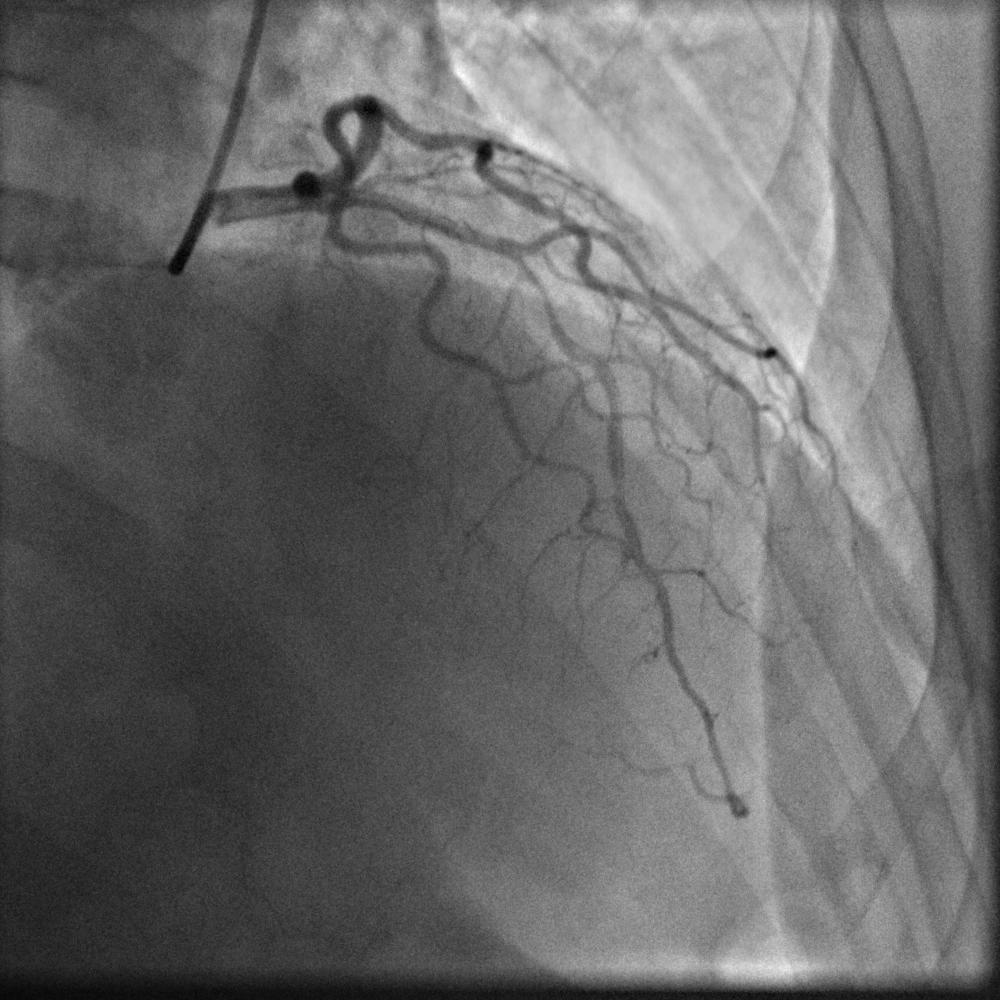Stenosis: (520, 267, 563, 333)
